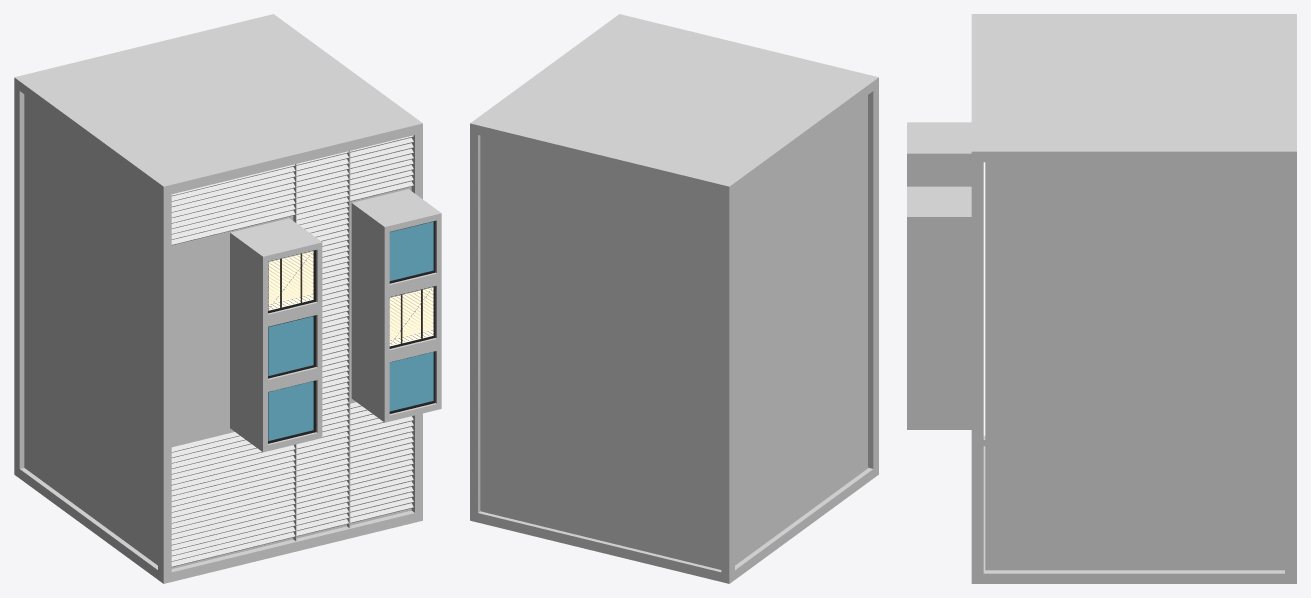
File: Bloc_17F.fbx
3 views of the same model, side by side, from view 1: azimuth 30°, elevation 25°; view 2: azimuth 150°, elevation 25°; view 3: azimuth 270°, elevation 25° (orthographic). The views are drawn at different scales.
Visible parts, largest first — view 1: Bloc_17A; view 2: Bloc_17A; view 3: Bloc_17A.
Boxes of the visible parts, box(x1,y1,x2,y2) form: Bloc_17A: box(14, 14, 441, 583); Bloc_17A: box(470, 14, 878, 583); Bloc_17A: box(907, 14, 1296, 583).
Bounding box in the file's own units: 747 × 914 × 625.
